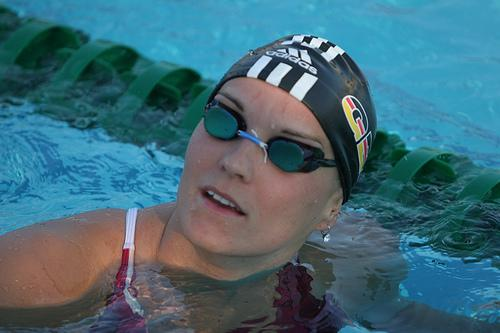swimmer: (0, 31, 384, 332)
